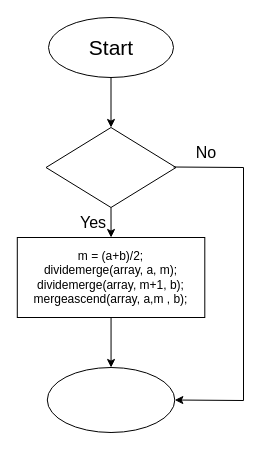
This 270x450 diagram has some shape labels left out. Here are the shapes that lost their labels. From the top down, the centre of each, then its label:
point (110, 167): a < b
point (110, 399): Stop
